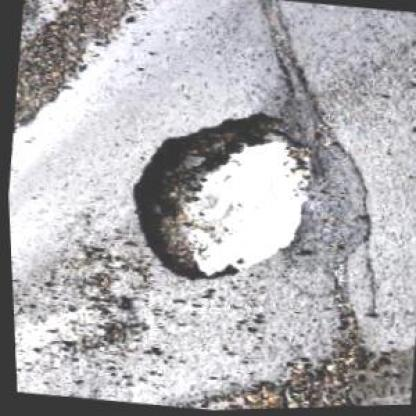pothole: (111, 93, 323, 299)
